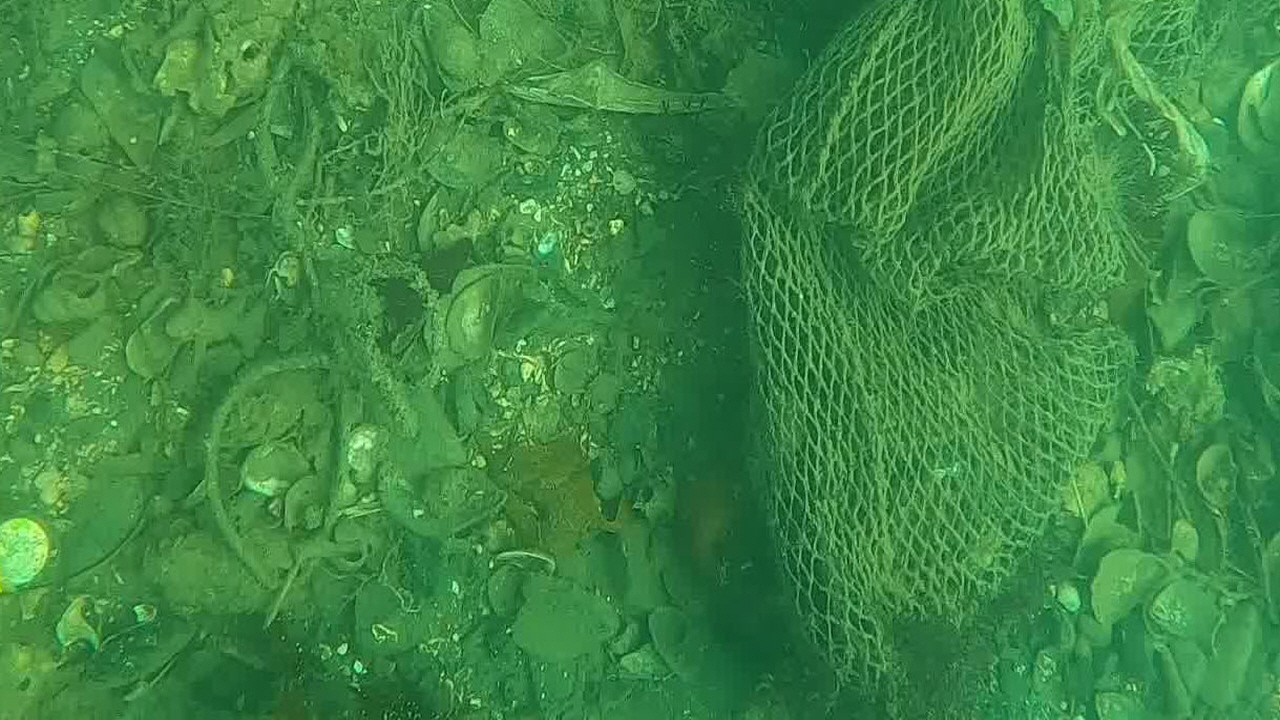fish net: (739, 0, 1204, 685)
